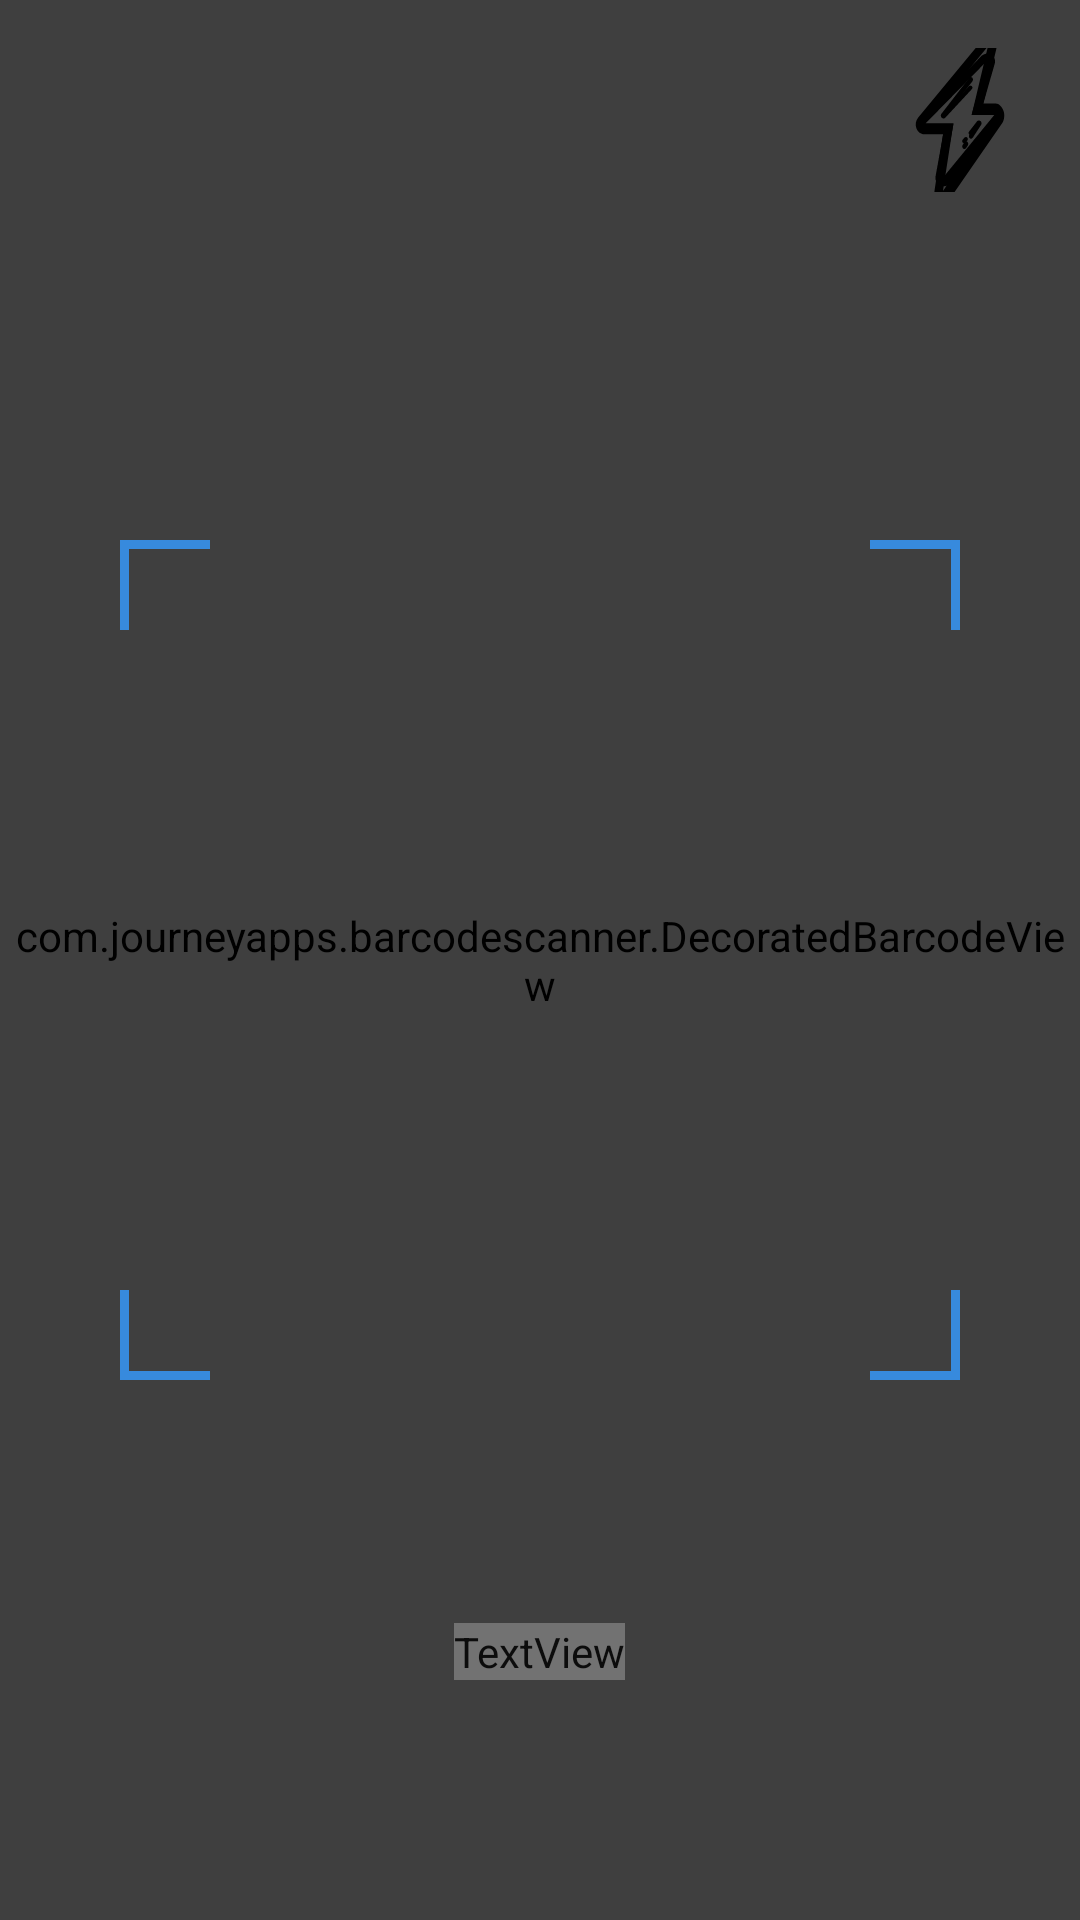

Point at icon controls on the screen. Image size 1080 × 1920, points as (x=x, y=y).
Flash: (x=960, y=120)
